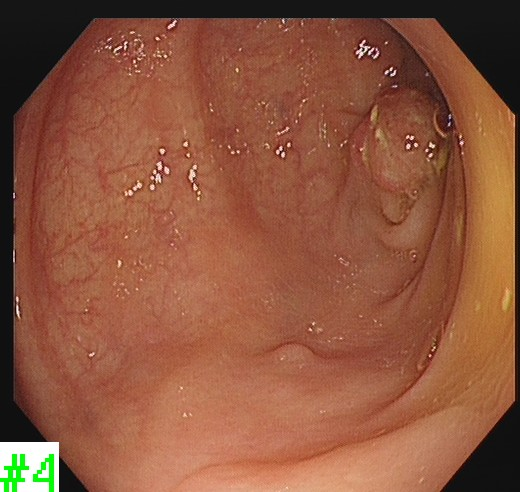adenoma: (348, 84, 453, 197), (261, 339, 324, 363)
